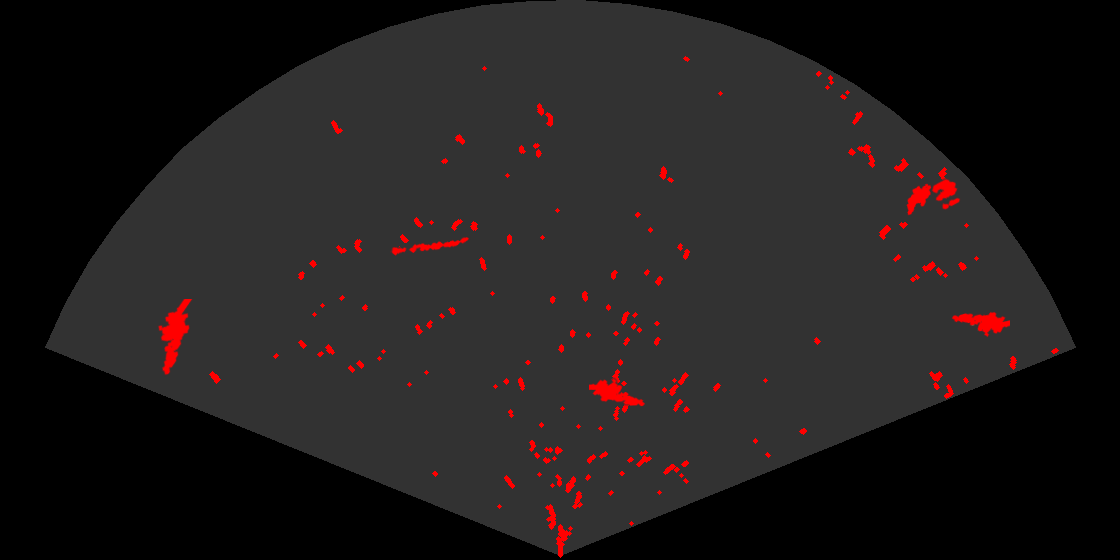AUV: (905, 182, 933, 217)
ball: (930, 177, 962, 211)
chain: (390, 236, 471, 257)
frogman: (156, 299, 194, 377), (950, 310, 1010, 339), (589, 377, 645, 408)
